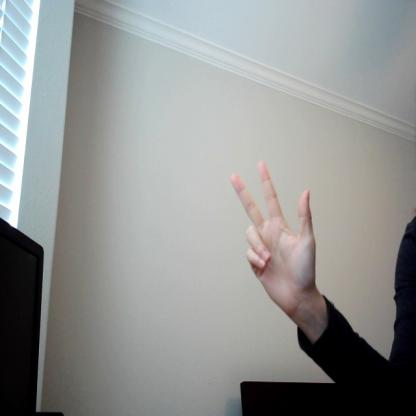three: (227, 160, 322, 317)
